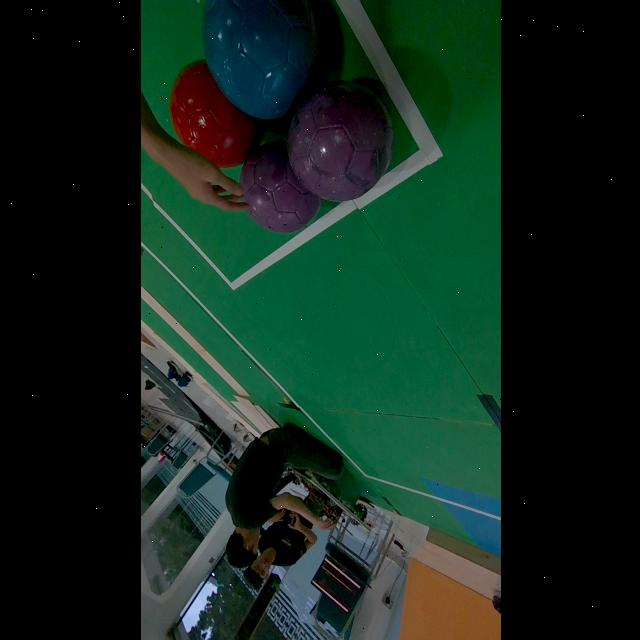B: (201, 0, 319, 119)
P: (286, 81, 392, 201), (240, 142, 320, 232)
R: (169, 60, 261, 168)
